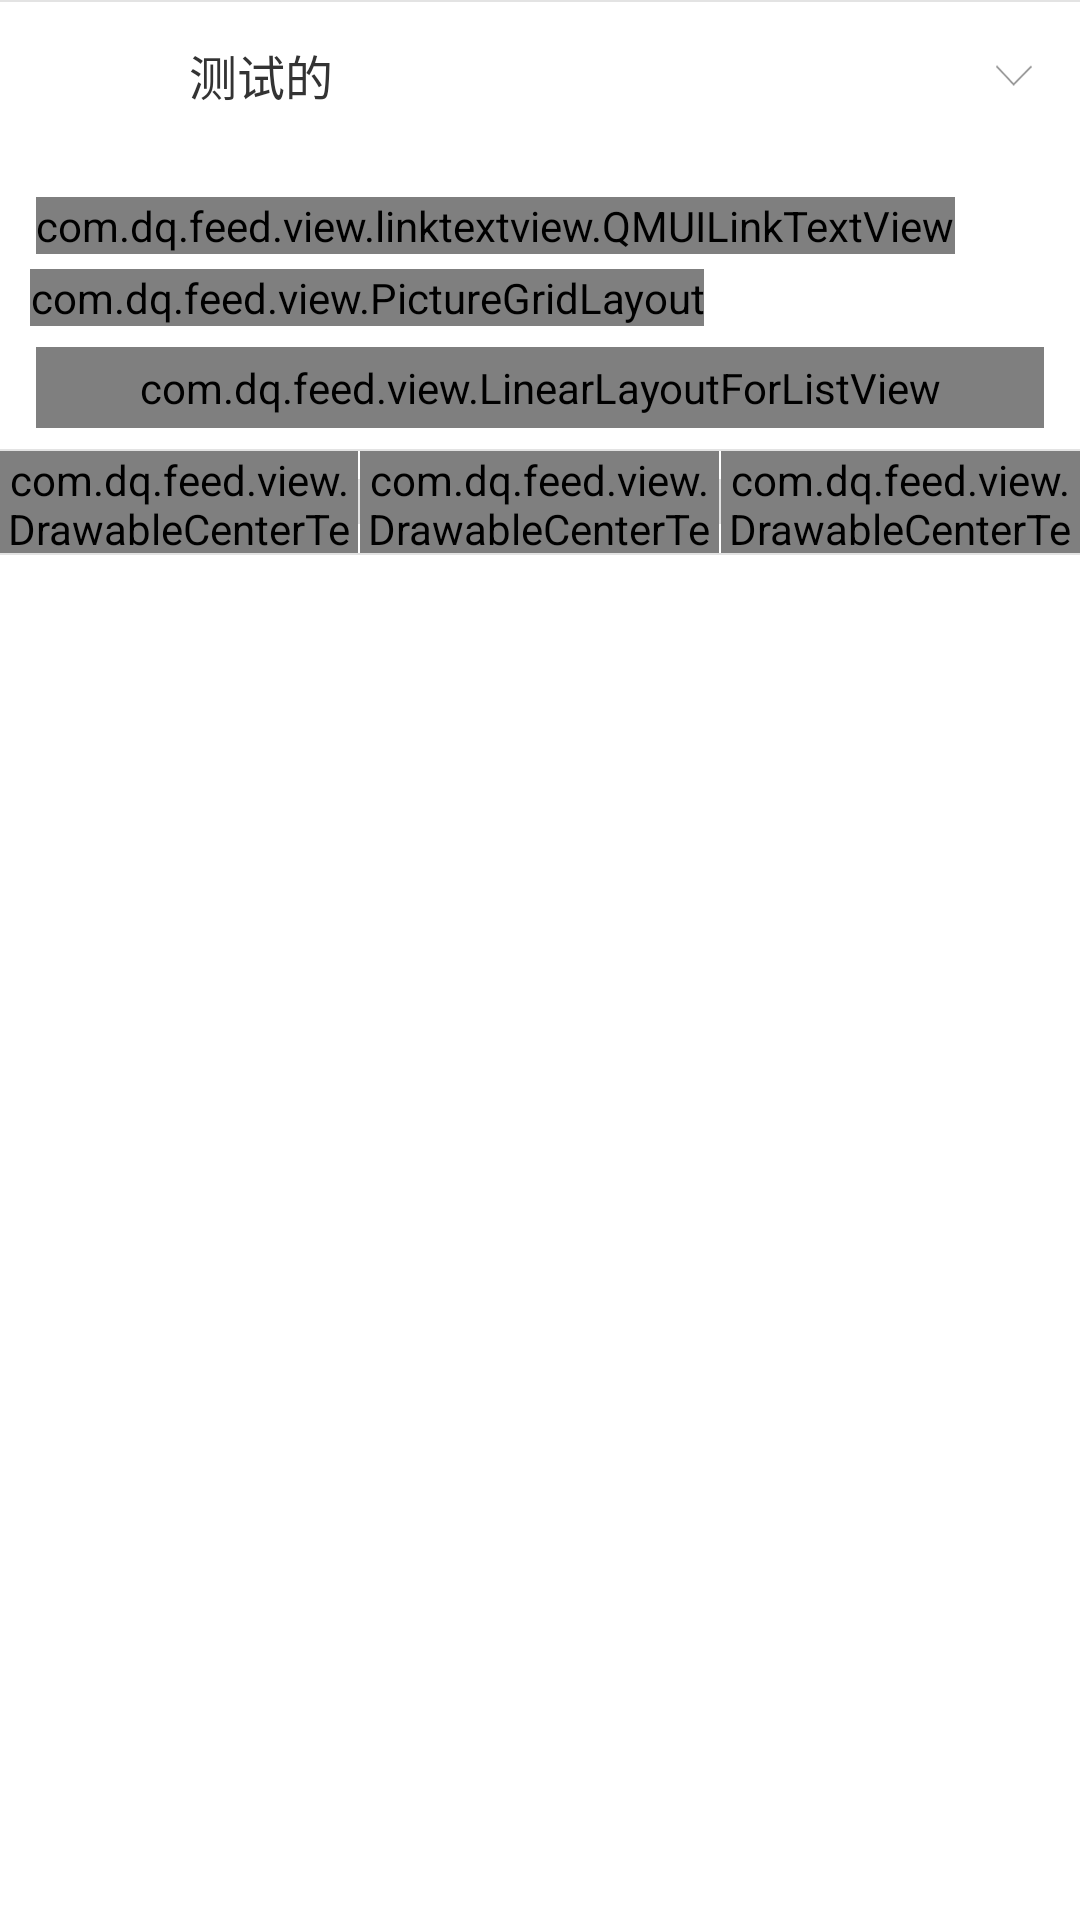

Locate icon controls on the screen. Image size 1080px×1920px, boxes as (x1, y1, x2, y2).
arrow down: (996, 65, 1032, 86)
